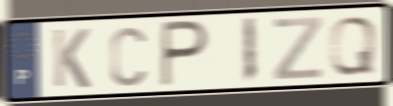C: (108, 24, 148, 89)
I: (241, 15, 258, 86)
K: (50, 27, 92, 91)
P: (158, 18, 212, 90)
Q: (327, 14, 380, 78)
Z: (271, 14, 324, 82)
